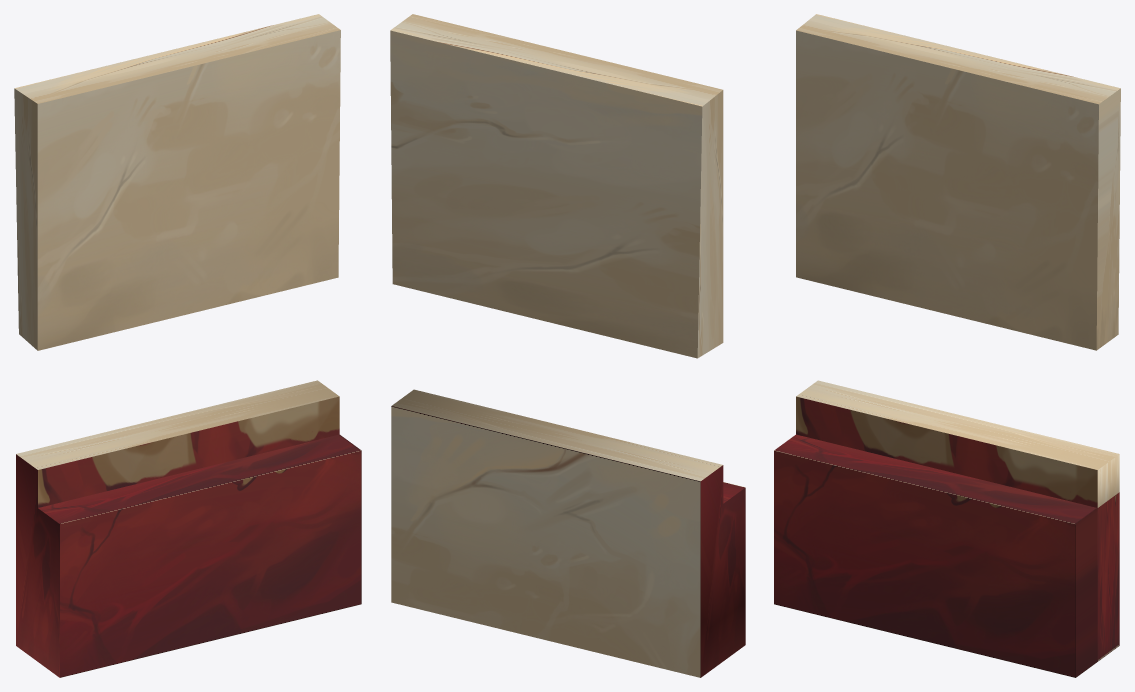
The model's file is mesh_ModulaireFenetreLongue 1.fbx.
The picture shows the model from 3 angles, left to right: view 1: azimuth 30°, elevation 25°; view 2: azimuth 150°, elevation 25°; view 3: azimuth 330°, elevation 25°; orthographic projection. The views are drawn at different scales.
Parts seen in each view (by area): view 1: Box015; view 2: Box015; view 3: Box015.
Part boxes in pixels (x1,y1,x2,y2): Box015: [14, 14, 361, 677]; Box015: [390, 14, 745, 677]; Box015: [774, 14, 1120, 677].
Size of the model in its own units: 1 by 1.75 by 0.25.
